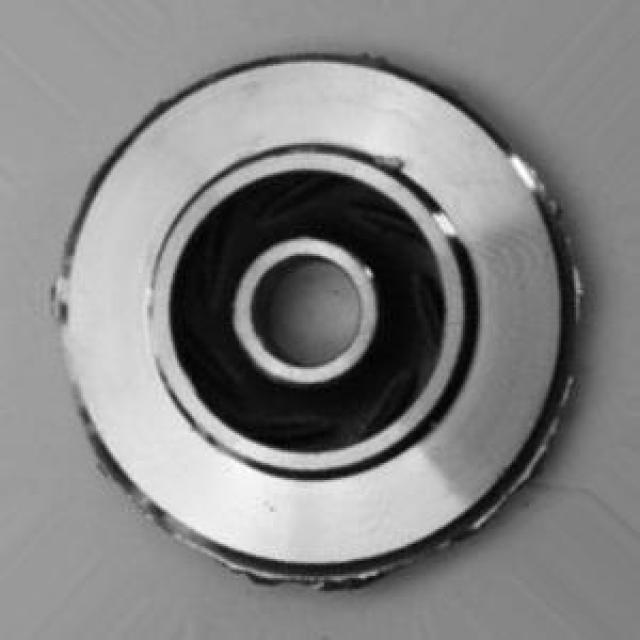Defect: (297, 557, 396, 607)
